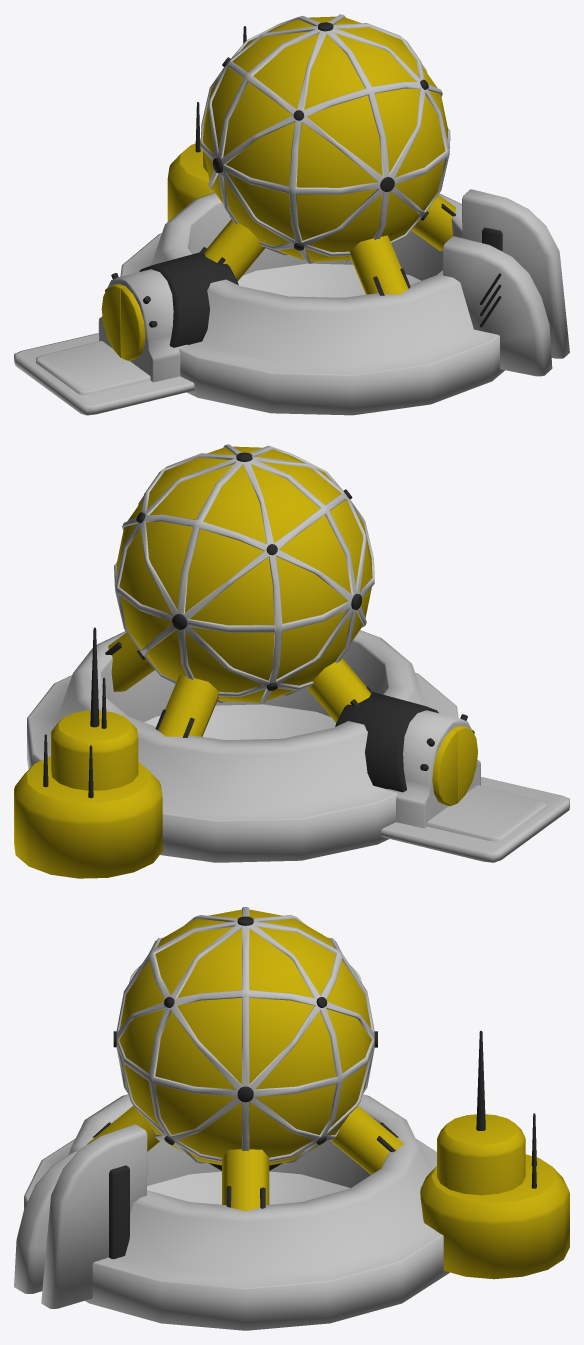
3 renders of one model, top to bottom at view 1: azimuth 30°, elevation 25°; view 2: azimuth 150°, elevation 25°; view 3: azimuth 270°, elevation 25°, orthographic. The views are drawn at different scales.
Visible parts, largest first — view 1: Research_center.001; view 2: Research_center.001; view 3: Research_center.001.
Part boxes in pixels (x1,y1,x2,y2): Research_center.001: (14, 14, 569, 415); Research_center.001: (14, 444, 569, 878); Research_center.001: (14, 907, 569, 1330).
Size of the model in its own units: 19.57 by 12.26 by 19.46.
